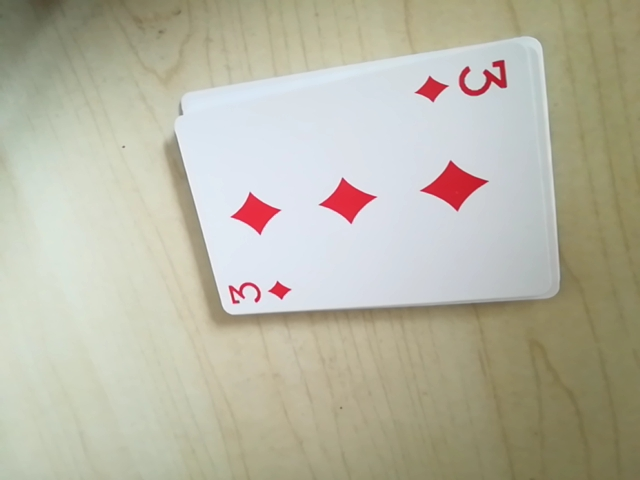fk 3: (412, 52, 515, 110), (221, 270, 297, 317)
